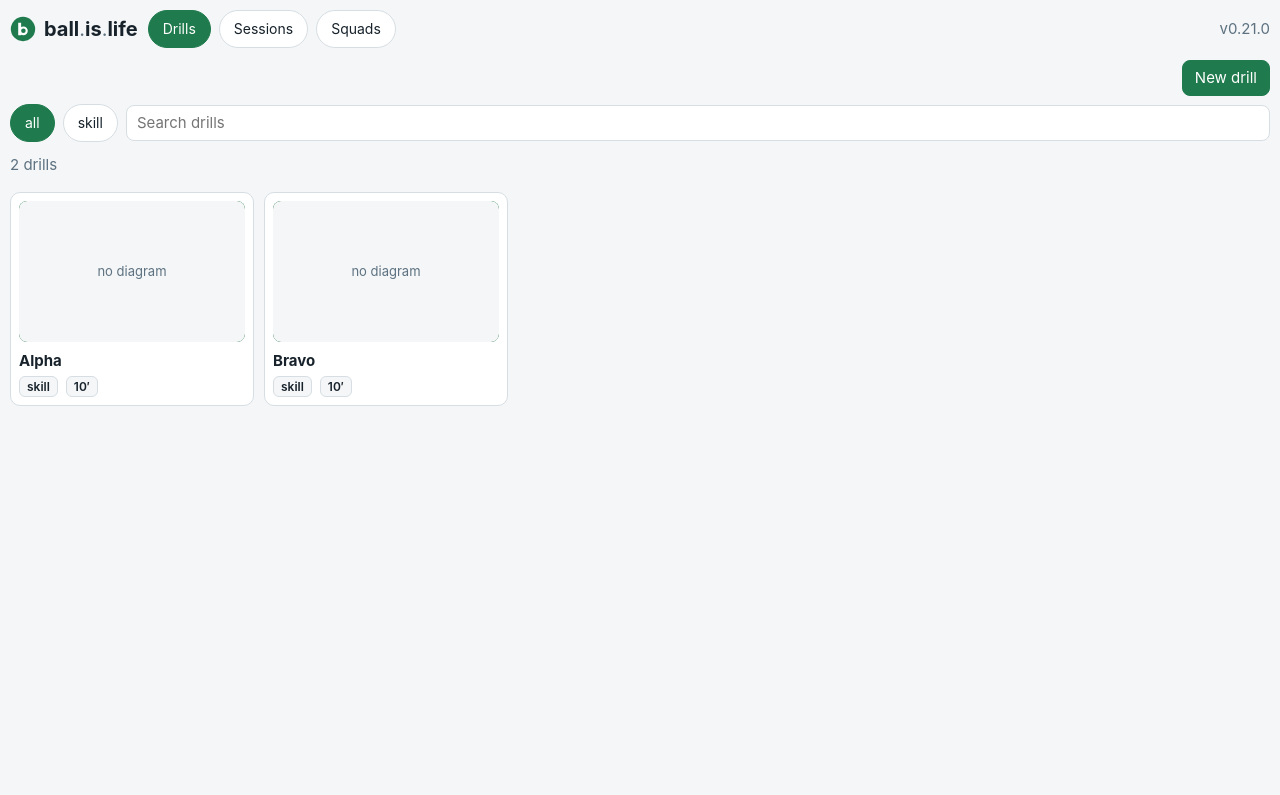
App session run mode › a block with no drill chosen and a broken reference both render sensibly, without crashing the rest
What coordinates should you click on to do the following:
click the button "Sessions"
I would click on:
 (264, 29)
Its box is [219,10,308,48].
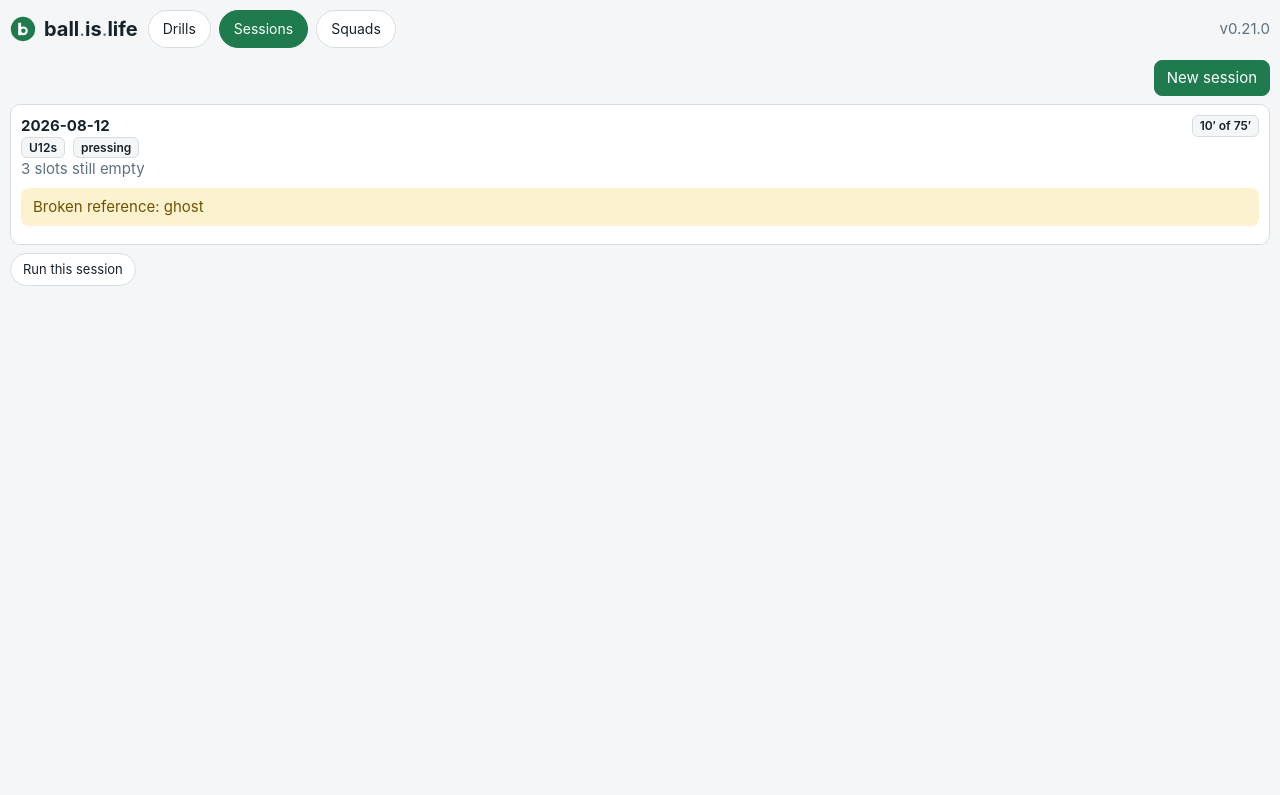
What coordinates should you click on to do the following:
click the button that starts with "′ of"
I would click on:
 (640, 174)
Its box is [10,104,1270,245].
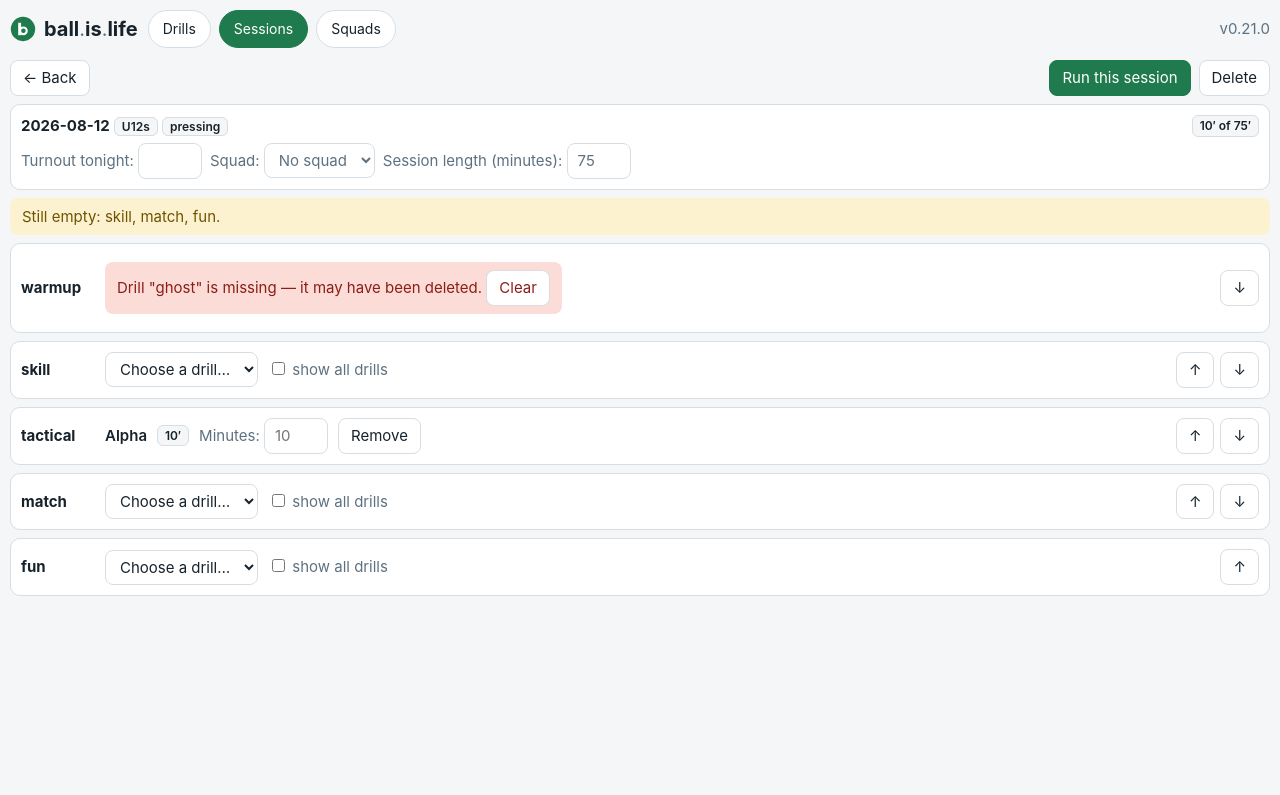
What coordinates should you click on to do the following:
click the button "Run this session"
I would click on:
 (1120, 78)
Its box is [1049,60,1190,96].
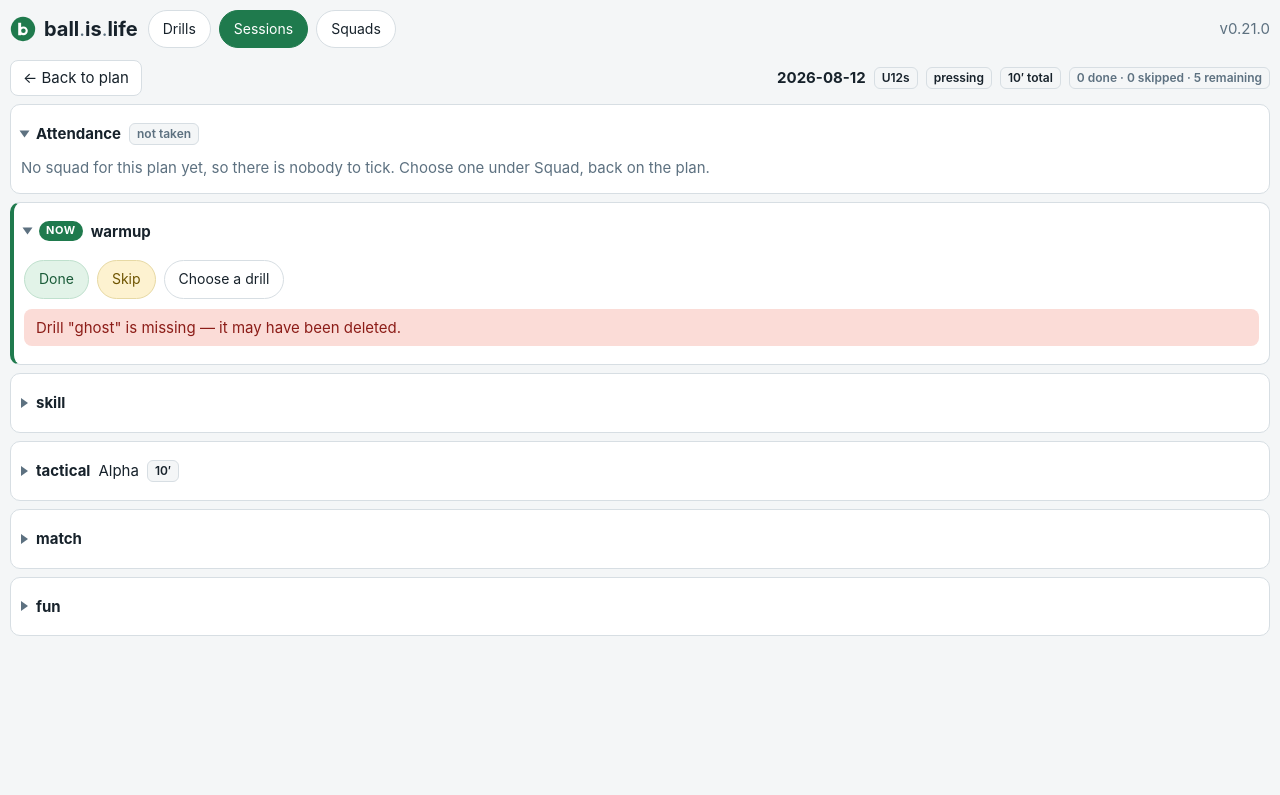
Expected: the text "missing" is shown, [114,318,401,337]
Expected: the text "ghost" is shown, [74,318,114,337]
What coordinates should you click on to do the following:
click the button with class "run-block-summary" showing "skill"
I would click on:
 (24, 403)
Its box is [21,384,1251,422].
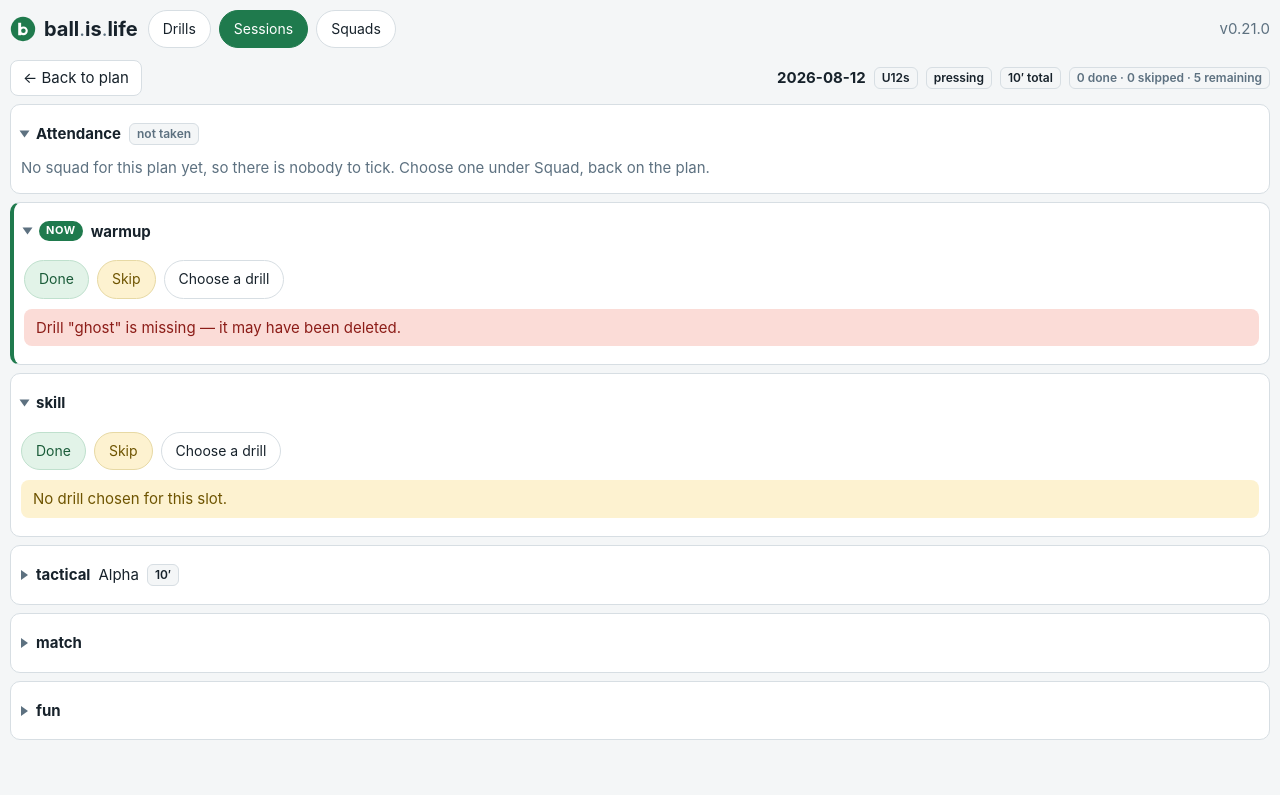
Expected: the text "No drill" is shown, [33,489,227,508]
What coordinates should you click on to do the following:
click the button with class "run-block-summary" showing "tactical Alpha 10′"
I would click on:
 (63, 575)
Its box is [21,556,1251,594].
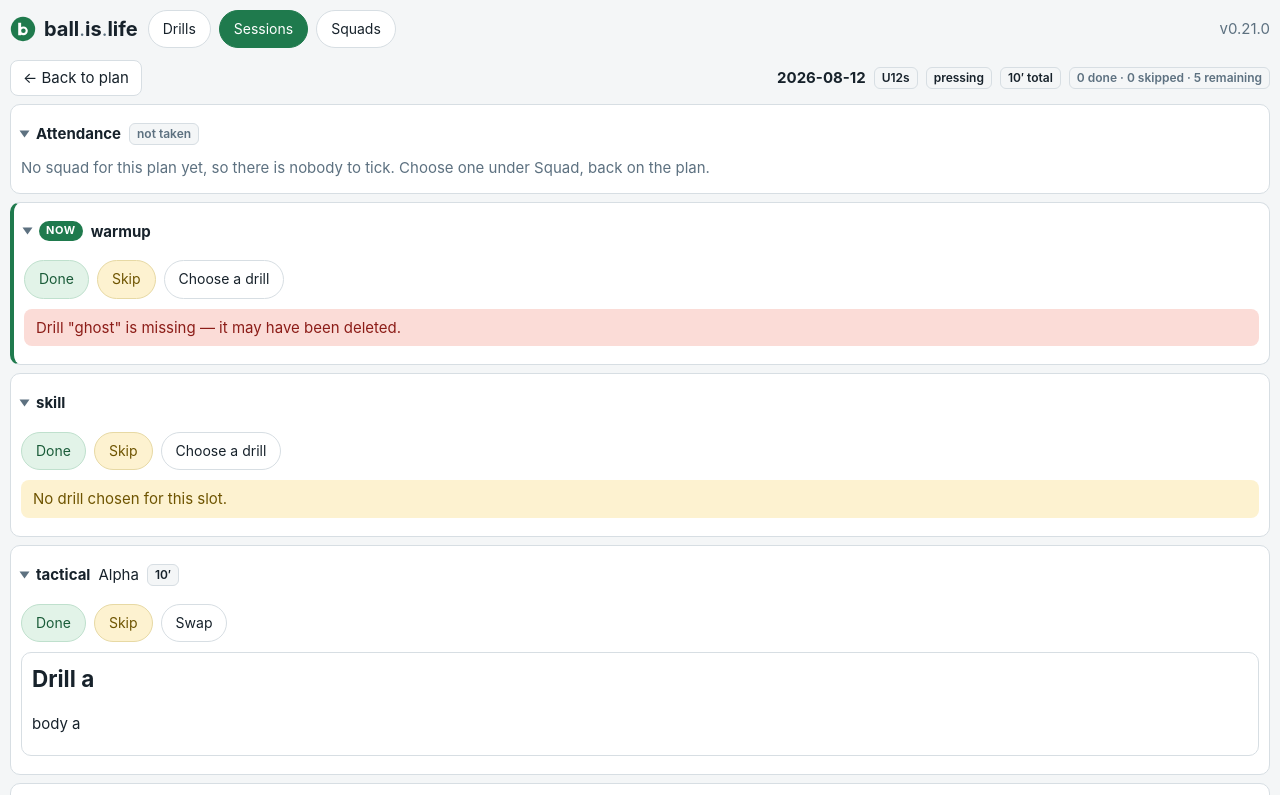
Expected: the text "body a" is shown, [32,714,80,733]
